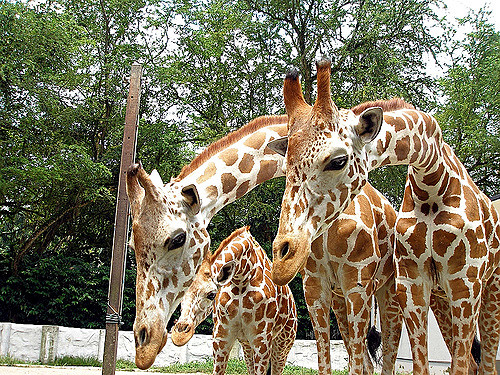giraffe: (272, 73, 483, 327), (129, 111, 291, 354), (161, 217, 308, 370)
